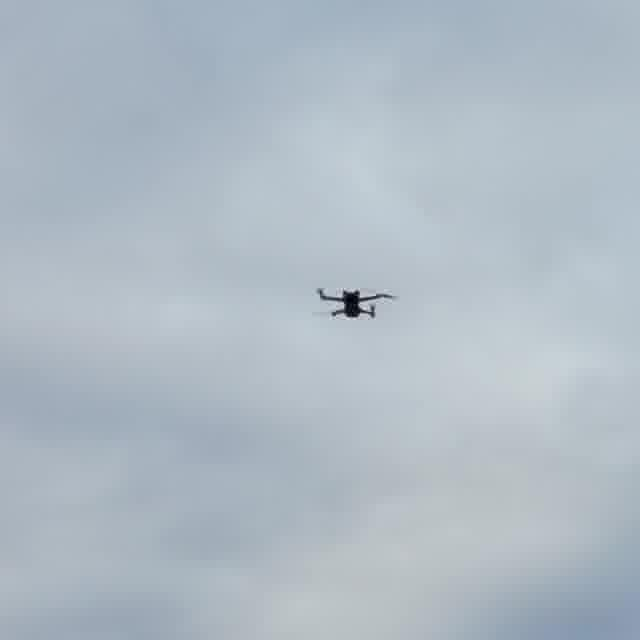Drohne: (318, 288, 395, 317)
